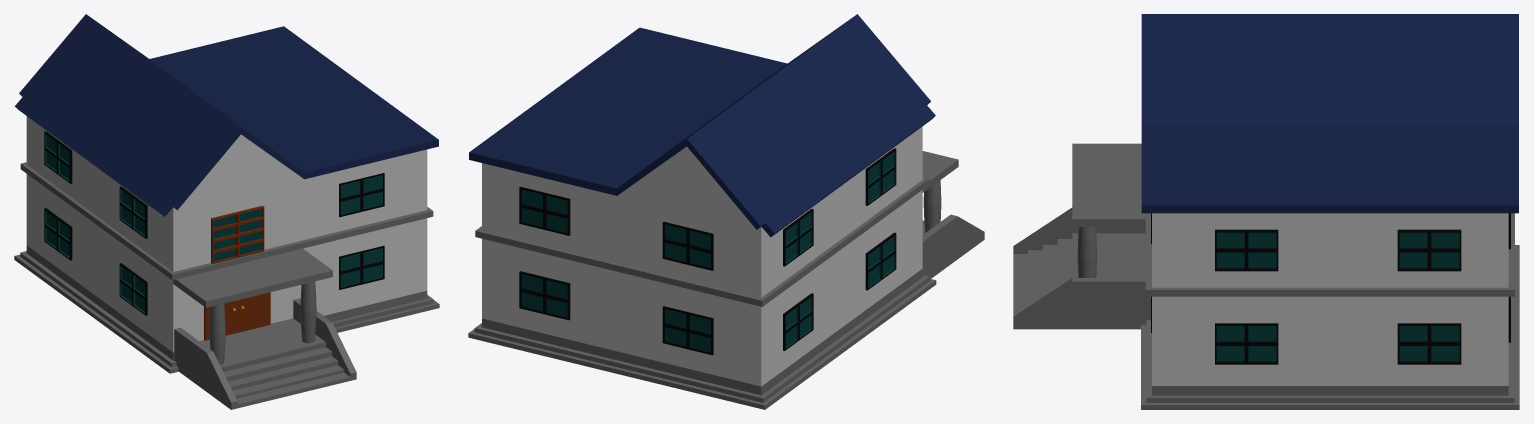
Rendered from ExoticHouse (1).fbx.
The picture shows the model from 3 angles, left to right: view 1: azimuth 30°, elevation 25°; view 2: azimuth 150°, elevation 25°; view 3: azimuth 270°, elevation 25°; orthographic projection. The views are drawn at different scales.
Visible parts, largest first — view 1: Cube; view 2: Cube; view 3: Cube.
Boxes of the visible parts, x1,y1,x2,y2 form: Cube: [14, 14, 439, 409]; Cube: [468, 14, 984, 409]; Cube: [1013, 14, 1519, 409].
Size of the model in its own units: 216 by 172 by 284.
